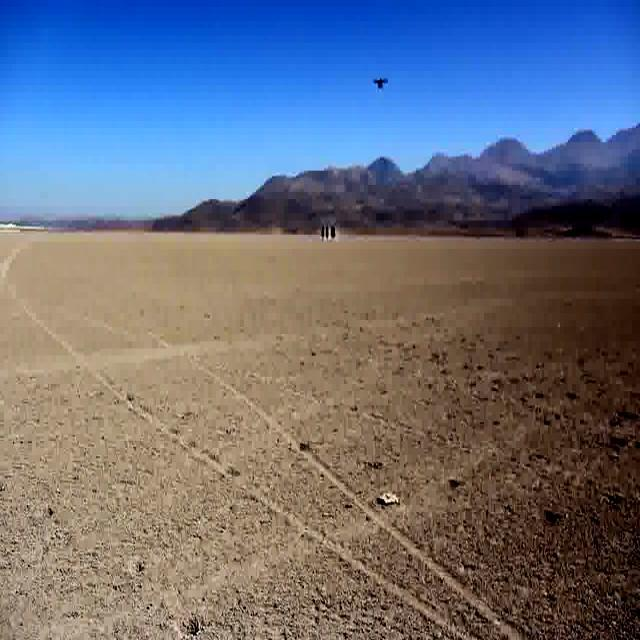drone: (372, 76, 388, 92)
